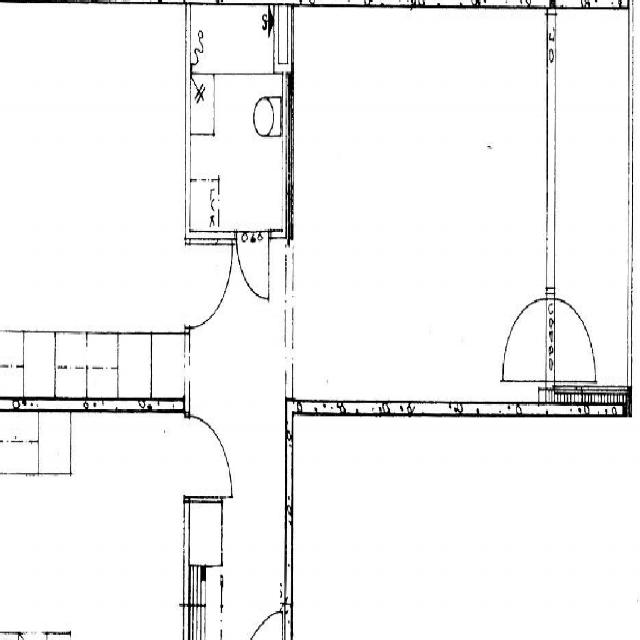door: (546, 299, 600, 382), (502, 299, 555, 382), (186, 244, 236, 328), (186, 417, 233, 497), (236, 230, 268, 298)
